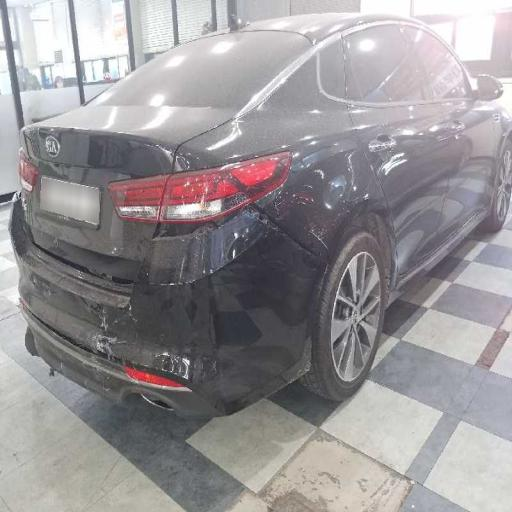scratch: (24, 238, 230, 427), (162, 77, 391, 239)
